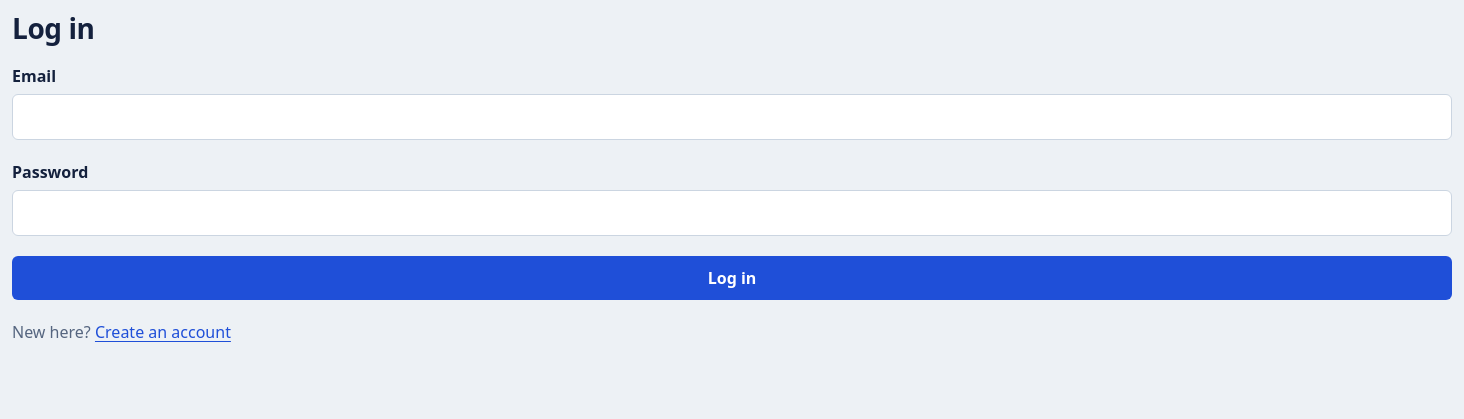
AuthForm › shows the server's message and lets the visitor try again
In the field labelled "Email": (732, 117) [12,94,1452,140], type "ada@example.com"
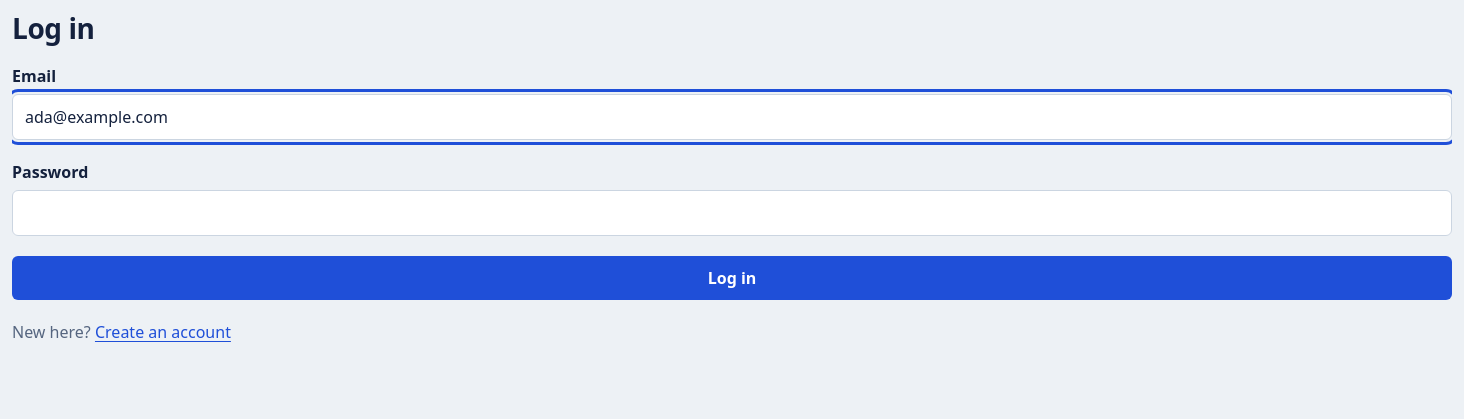
In the password field labelled "Password": (732, 213) [12,190,1452,236], type "wrong"
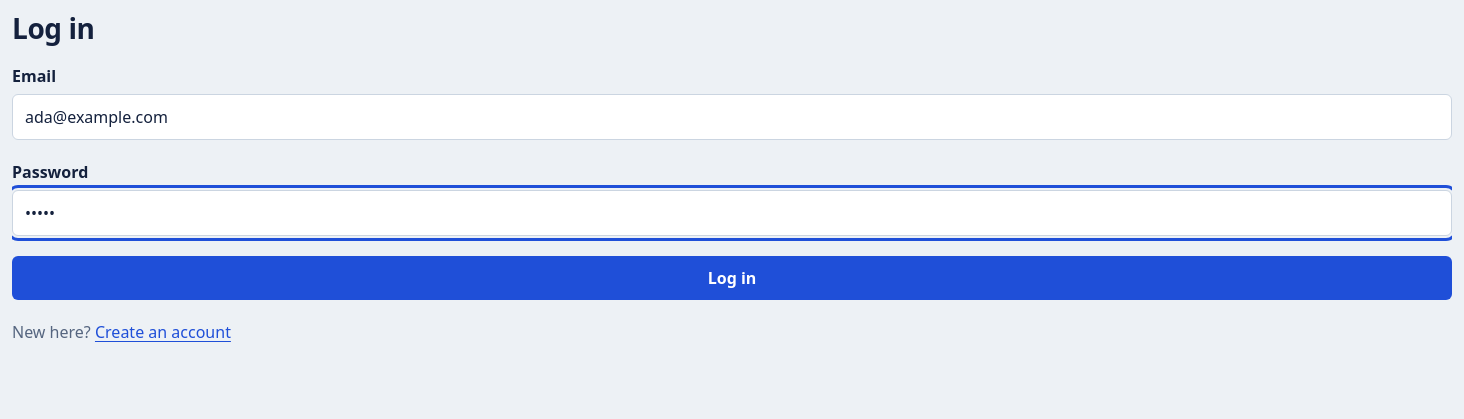
Click the button "Log in": (732, 278) [12,256,1452,300]
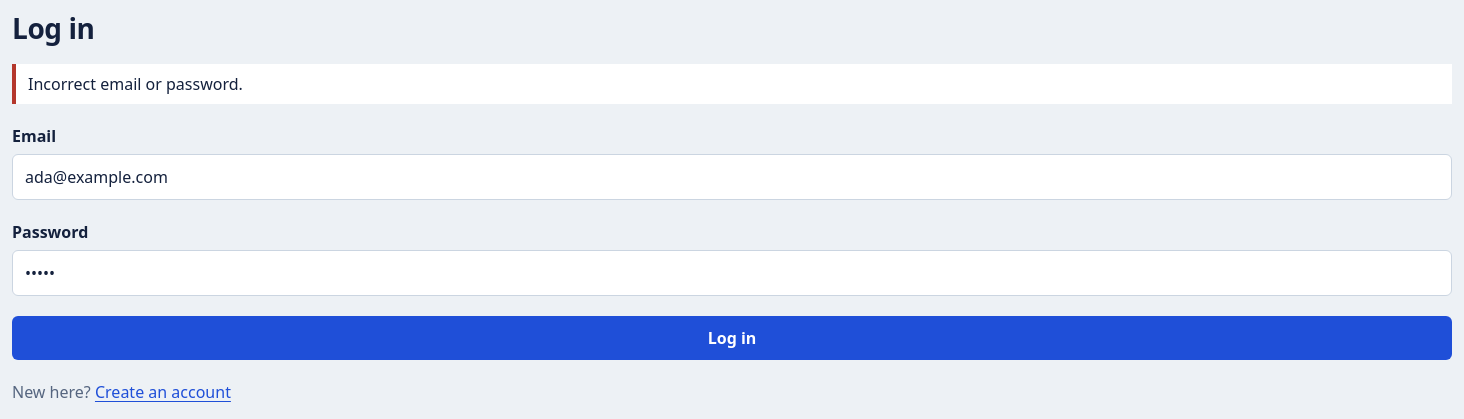
Check: the message reads "Incorrect email or password.", box [28,73,243,95]
Click the button "Log in": (732, 338) [12,316,1452,360]
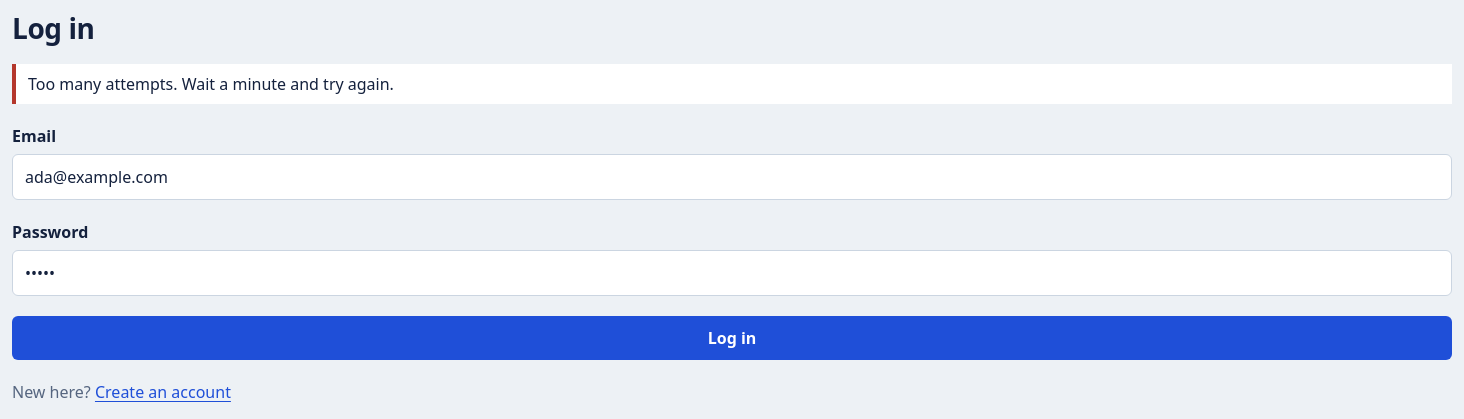
Check: the text "Too many attempts. Wait a minute and try again." is shown, box [12,64,1452,104]
Click the button "Log in": (732, 338) [12,316,1452,360]
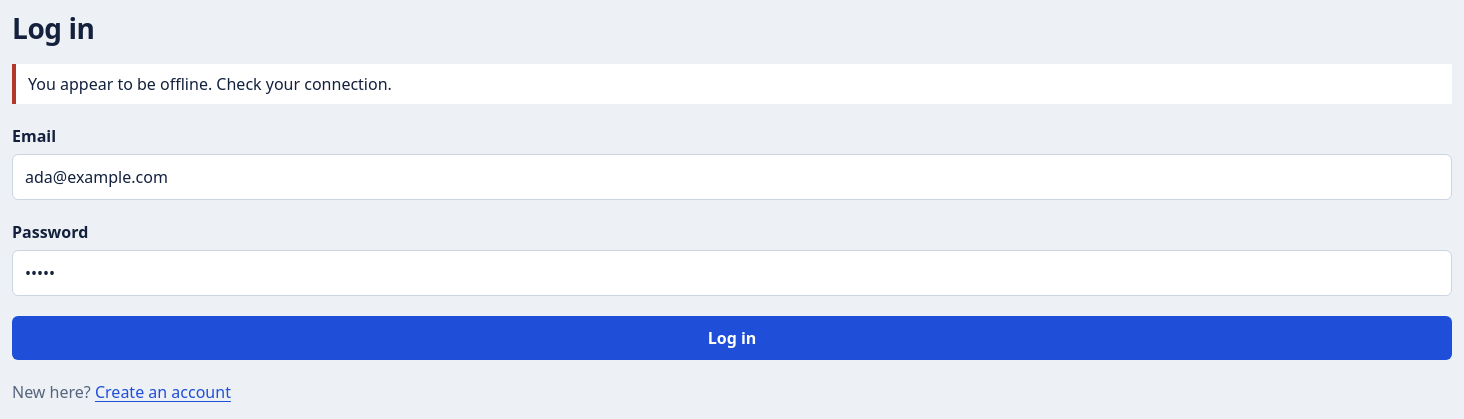
Check: the text "You appear to be offline. Check your connection." is shown, box [12,64,1452,104]
